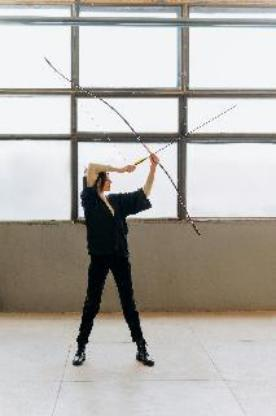person: (70, 154, 166, 380)
